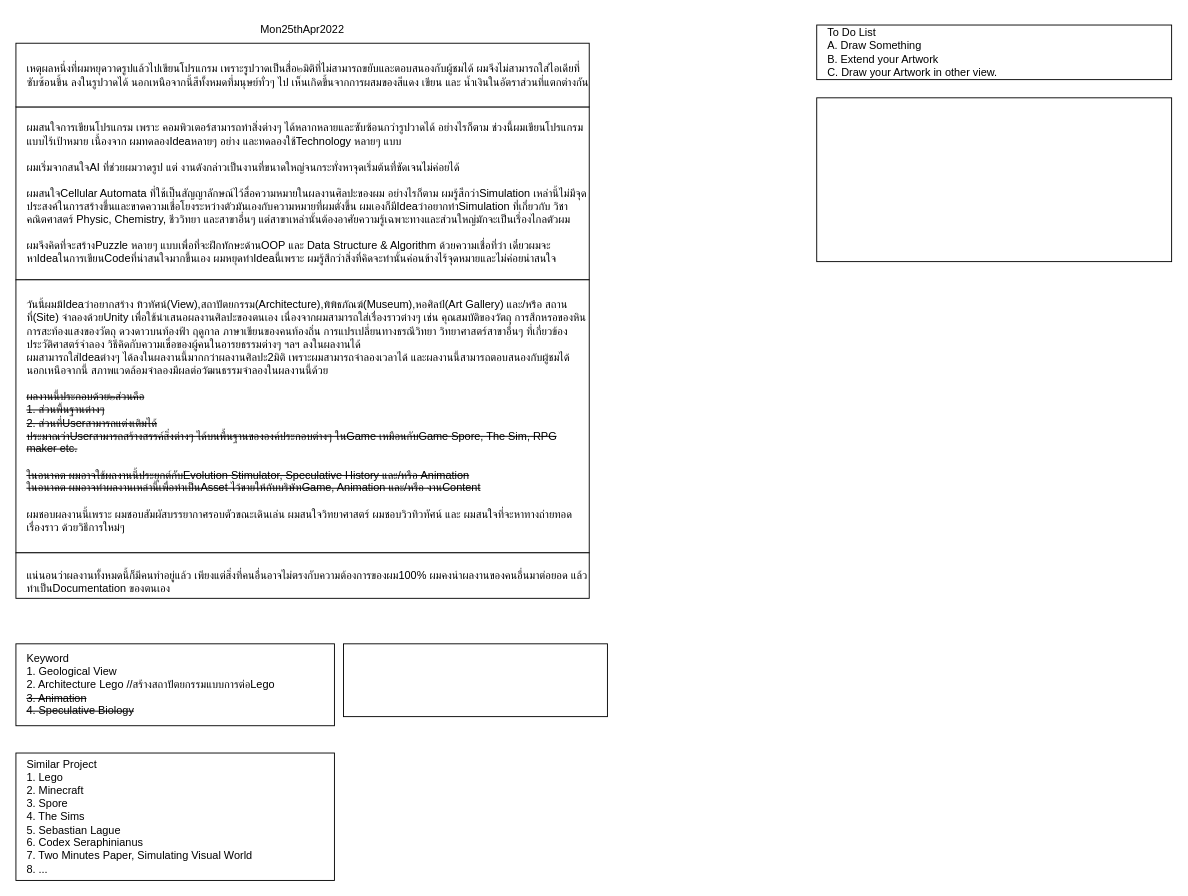
Some shapes in this 1188 by 896 pixel diagram are drawn without their labels. The shapes that lost their labels are listed below. From the top down, each one's box as (x1, y1, x2, y2) in pixels, then its label:
(816, 97, 1172, 262): My Favorite Artwork 1. The Illusion of Separation 2. ...
(343, 643, 607, 717): คำแนะนำอื่นๆ 1. ใช้Technologyที่มีคนใช้จำนวนมาก
